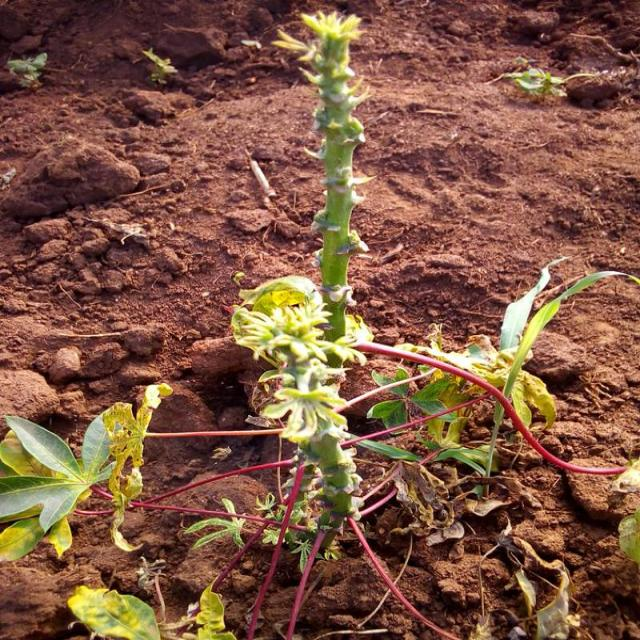cassava leaf: (67, 583, 162, 639)
